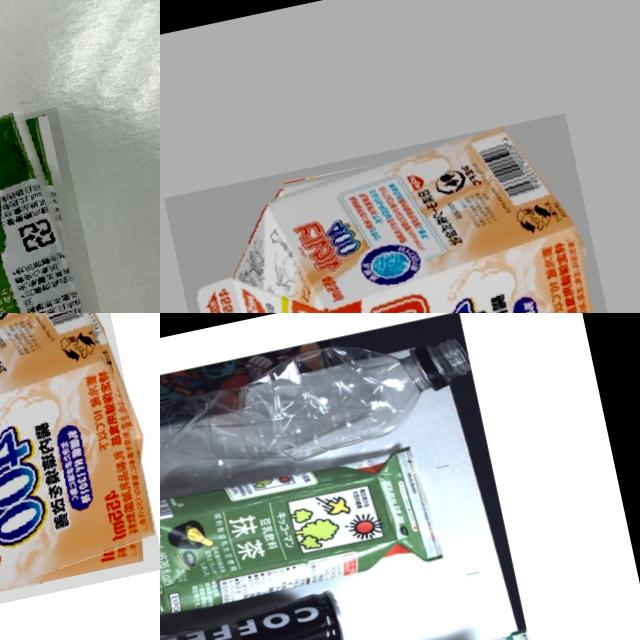Aluminium Foil: (163, 111, 633, 313), (0, 313, 160, 640), (160, 444, 444, 626), (0, 105, 137, 313)
Can: (160, 583, 355, 640)
Transparent Plastic Bottle: (160, 332, 479, 514)
